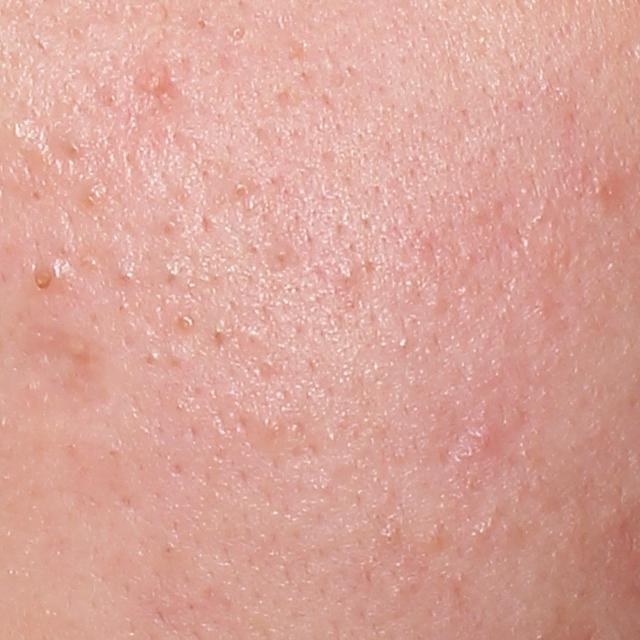comedo: (31, 267, 52, 293), (340, 265, 359, 285), (178, 314, 195, 334), (233, 181, 251, 199)
